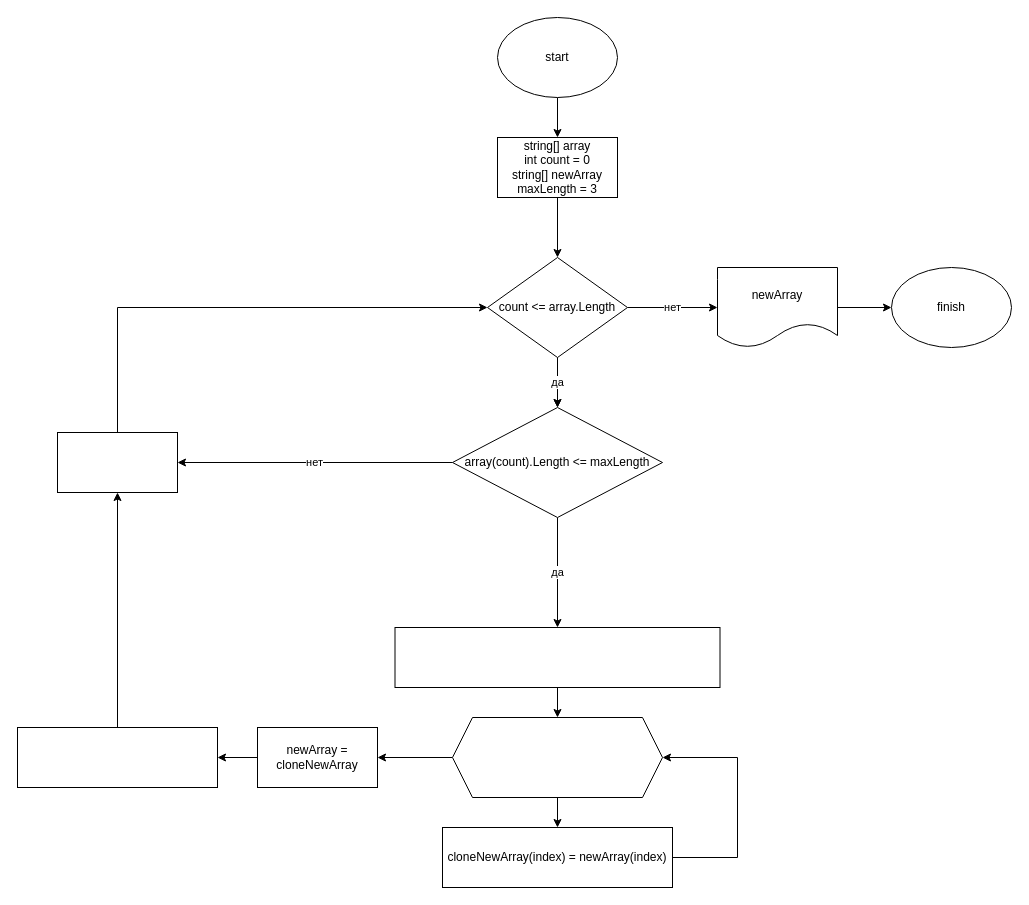
Image size: 1029x905. Some labels were removed from this diagram. The shapes that lost their labels are listed below. From the top down, each one's box as (x1, y1, x2, y2) in pixels, then its label:
(56, 432, 178, 492): count += 1;
(394, 626, 720, 688): string[] cloneNewArray = new string[newArray.Length +1]
(16, 726, 218, 788): newArray(newArray.Length -1) = array(count)
(452, 716, 662, 798): index = 0, cloneNewArray.Length -1 ,1
